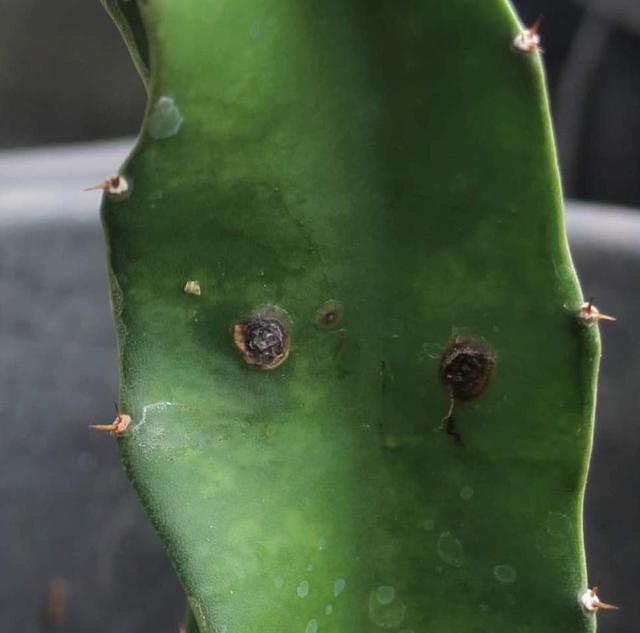stemcanker: (431, 326, 509, 443), (223, 302, 297, 379)
